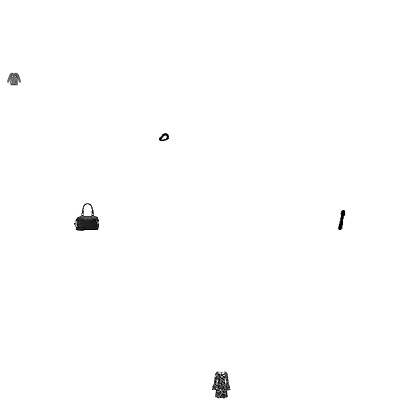4: (386, 279, 414, 307)
8: (338, 81, 352, 95)
Bag: (99, 253, 141, 295)
Dress: (270, 224, 382, 336), (60, 92, 116, 148)
T-shirt/top: (13, 78, 27, 92)
